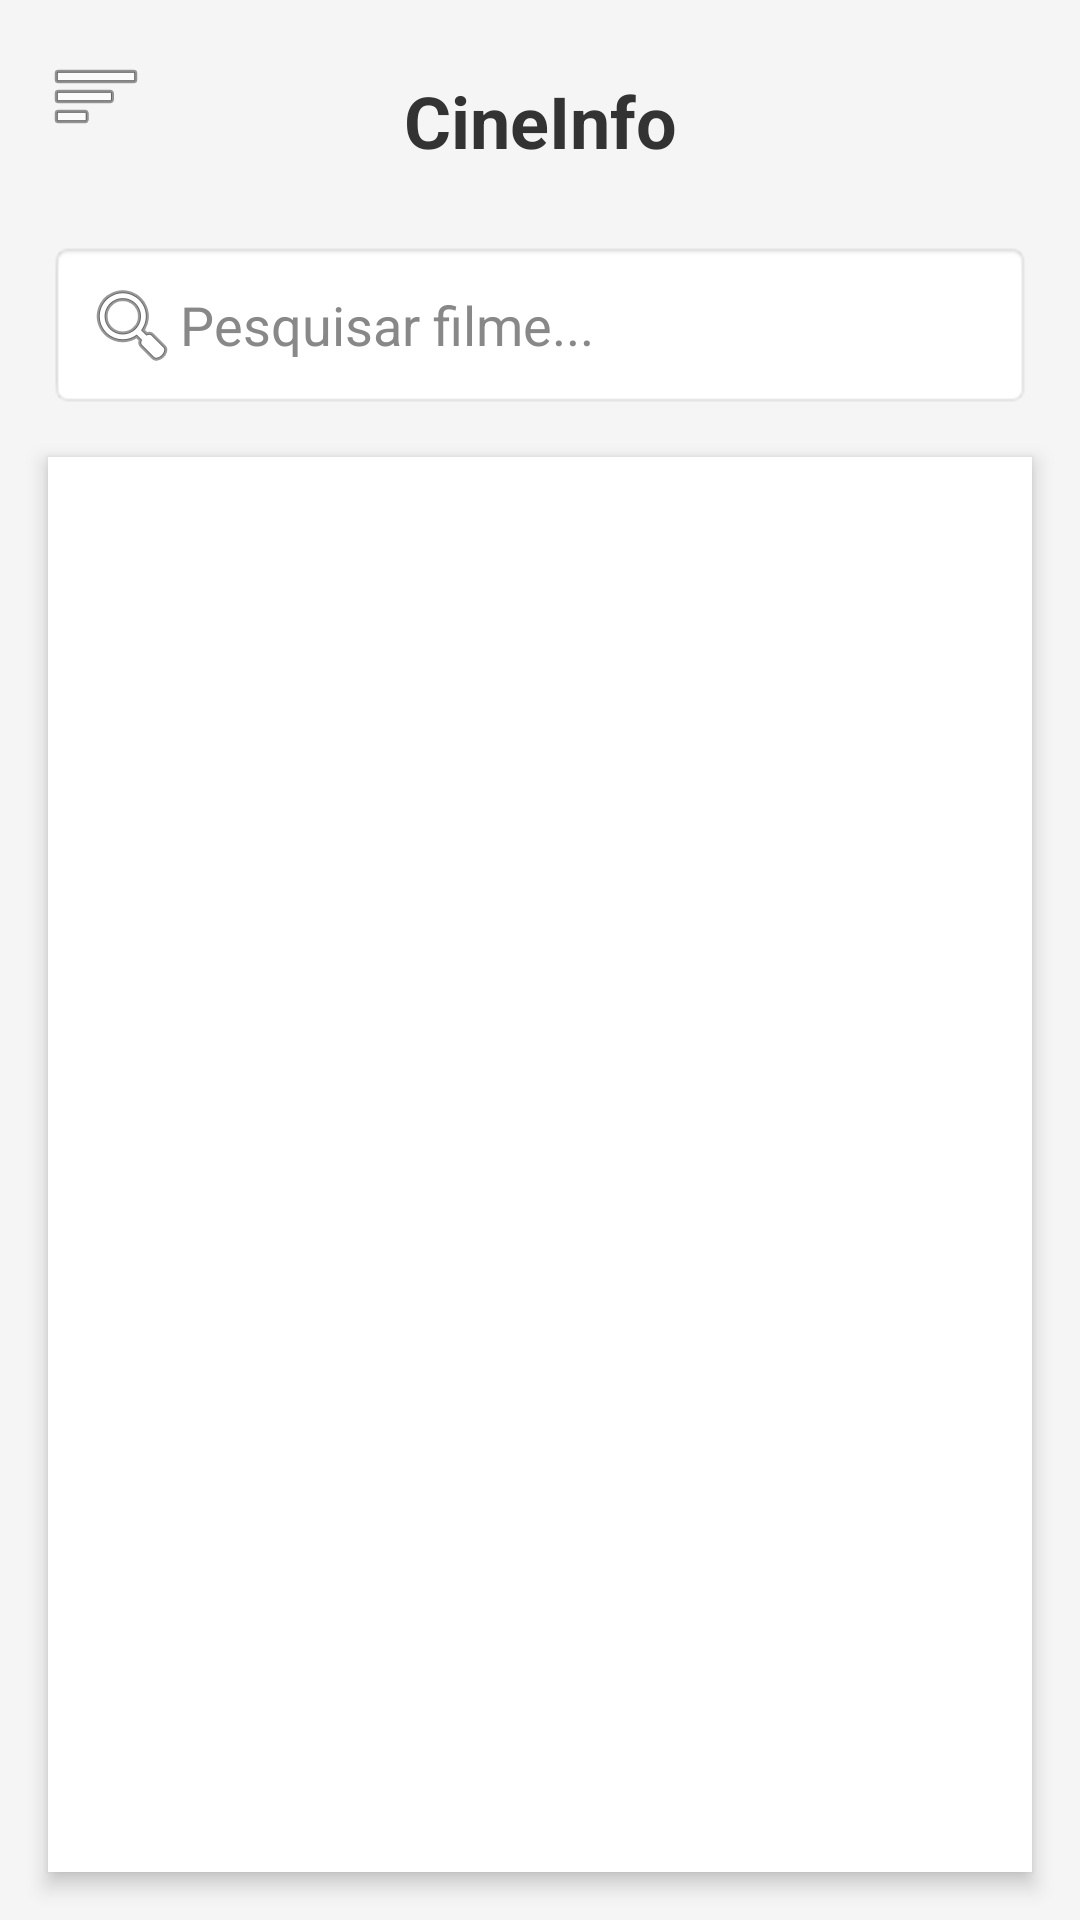

Locate icon controls on the screen. Image size 1080w x 1920h, boxes as (x1, y1, x2, y2).
Menu lateral: (55, 70, 137, 123)
